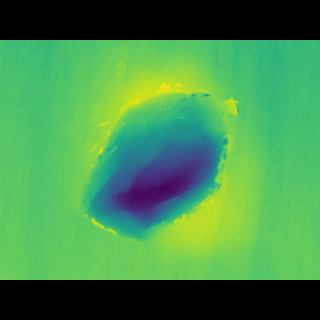Loch: (74, 80, 239, 230)
